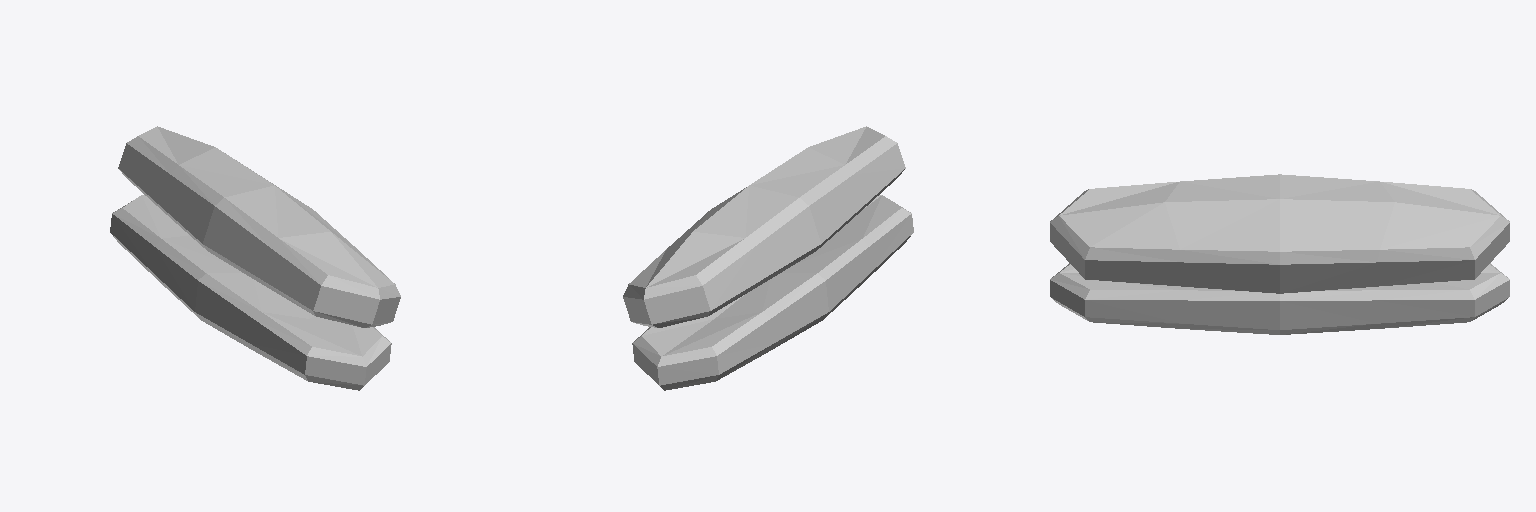
The model's file is HotdogBun.obj.
The picture shows the model from 3 angles: view 1: azimuth 30°, elevation 25°; view 2: azimuth 150°, elevation 25°; view 3: azimuth 270°, elevation 25°; orthographic projection.
Visible parts, largest first — view 1: HotdogBun; view 2: HotdogBun; view 3: HotdogBun.
Boxes of the visible parts, x1=… form: HotdogBun: x1=110, y1=126, x2=400, y2=390; HotdogBun: x1=623, y1=126, x2=913, y2=390; HotdogBun: x1=1050, y1=174, x2=1509, y2=334.
Size of the model in its own units: 0.1698 by 0.1761 by 0.5552.